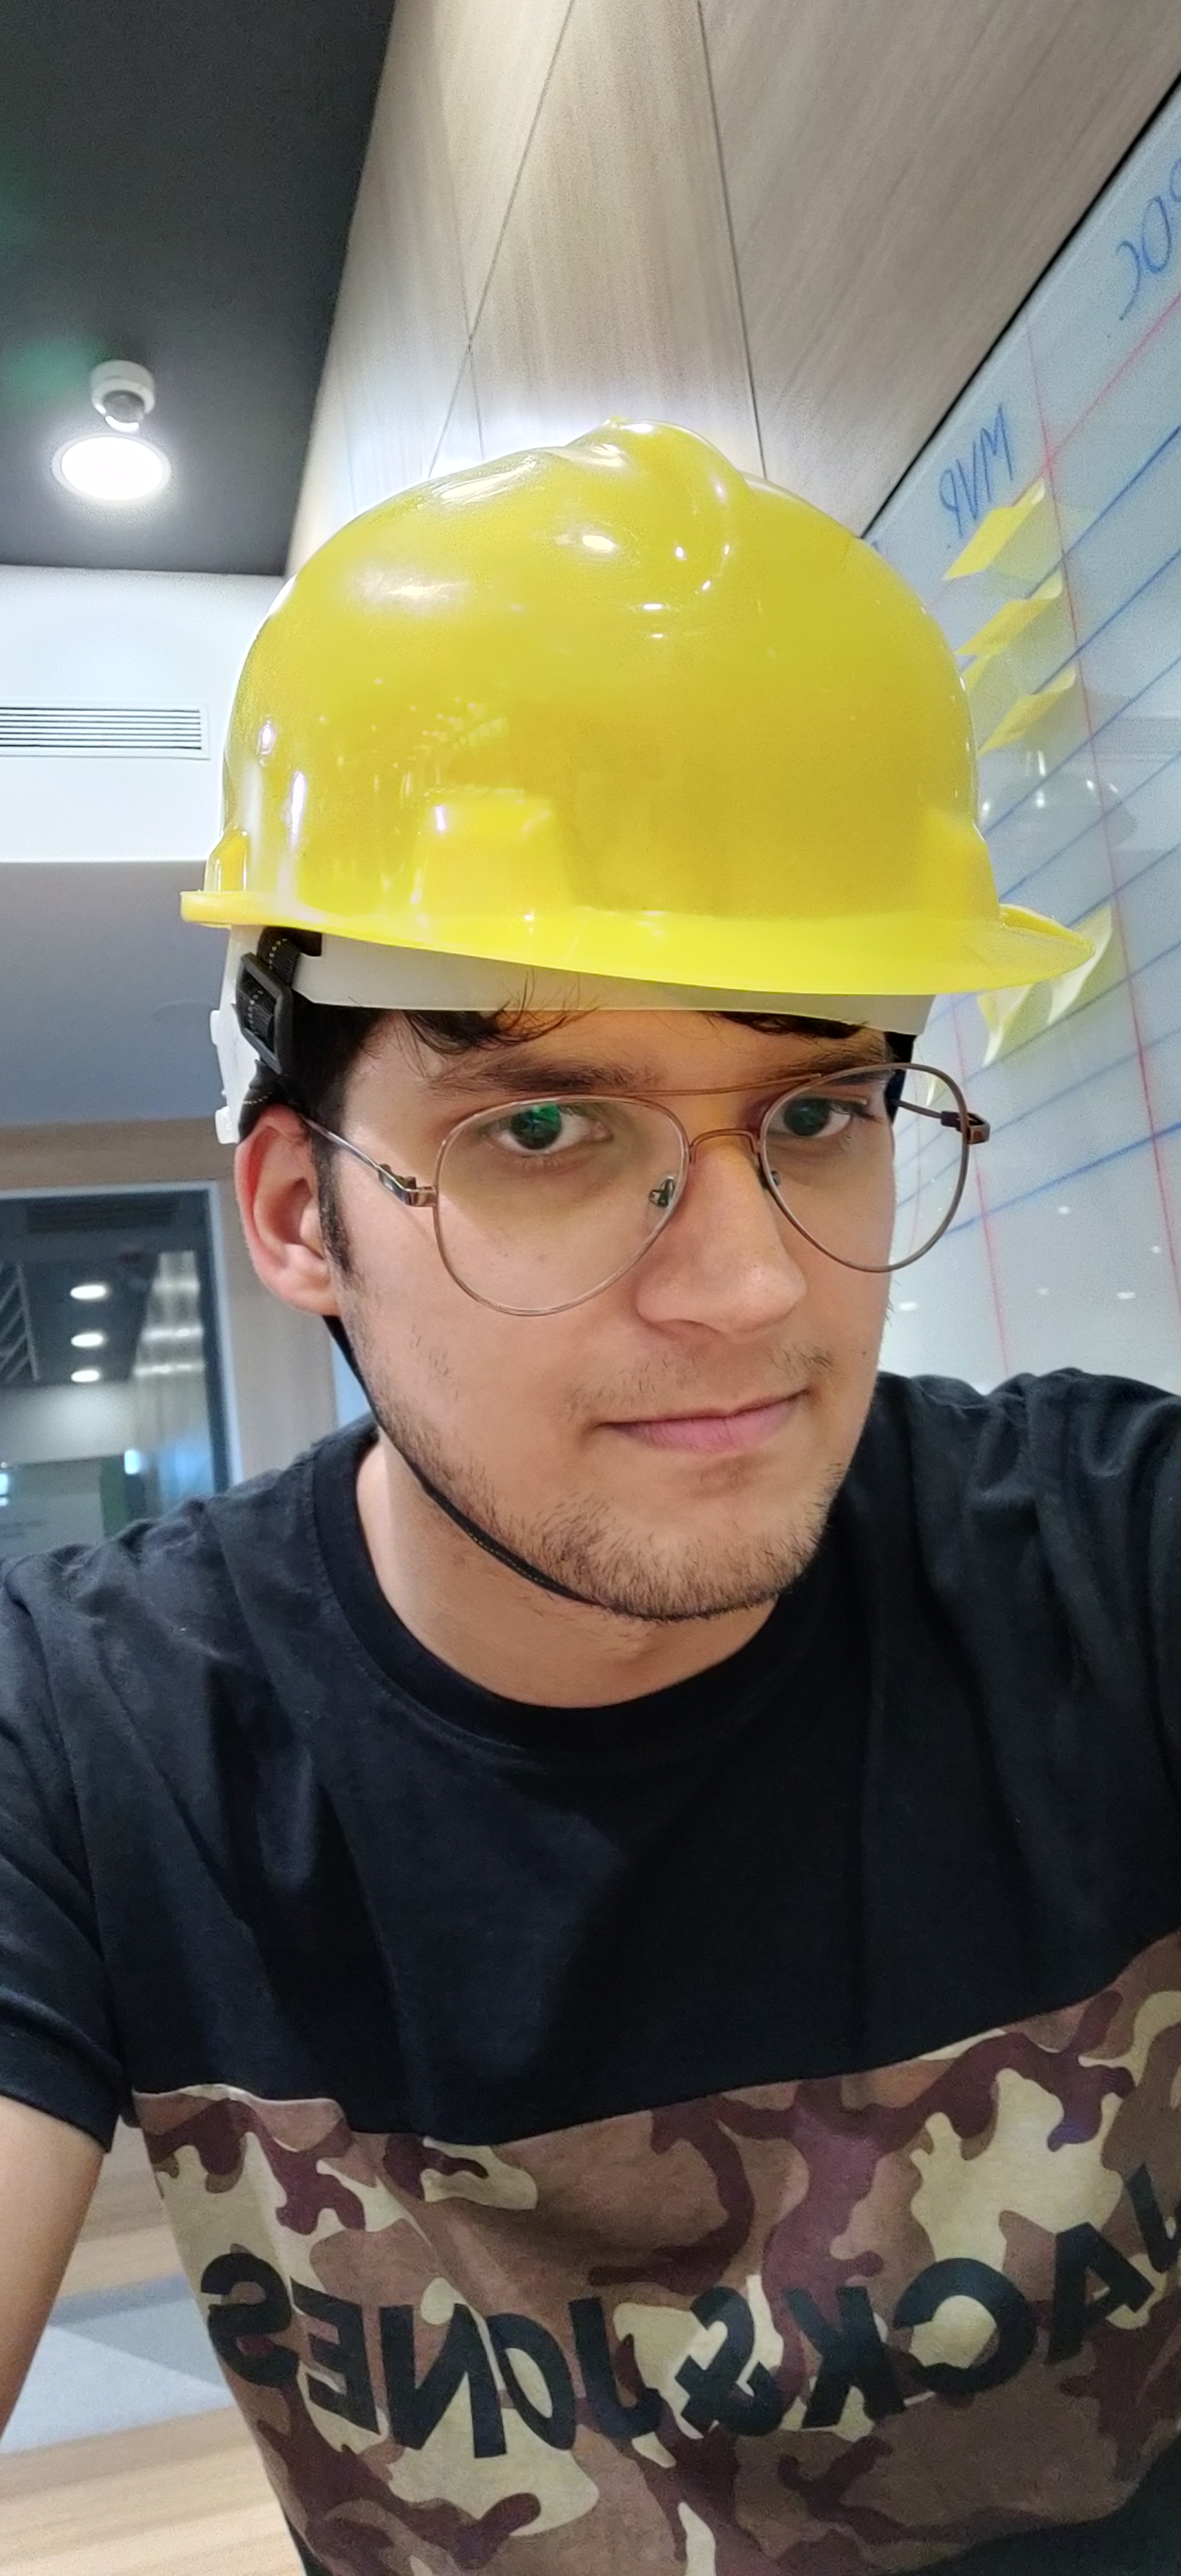Person_wearing_helmet: (163, 375, 1052, 1264)
